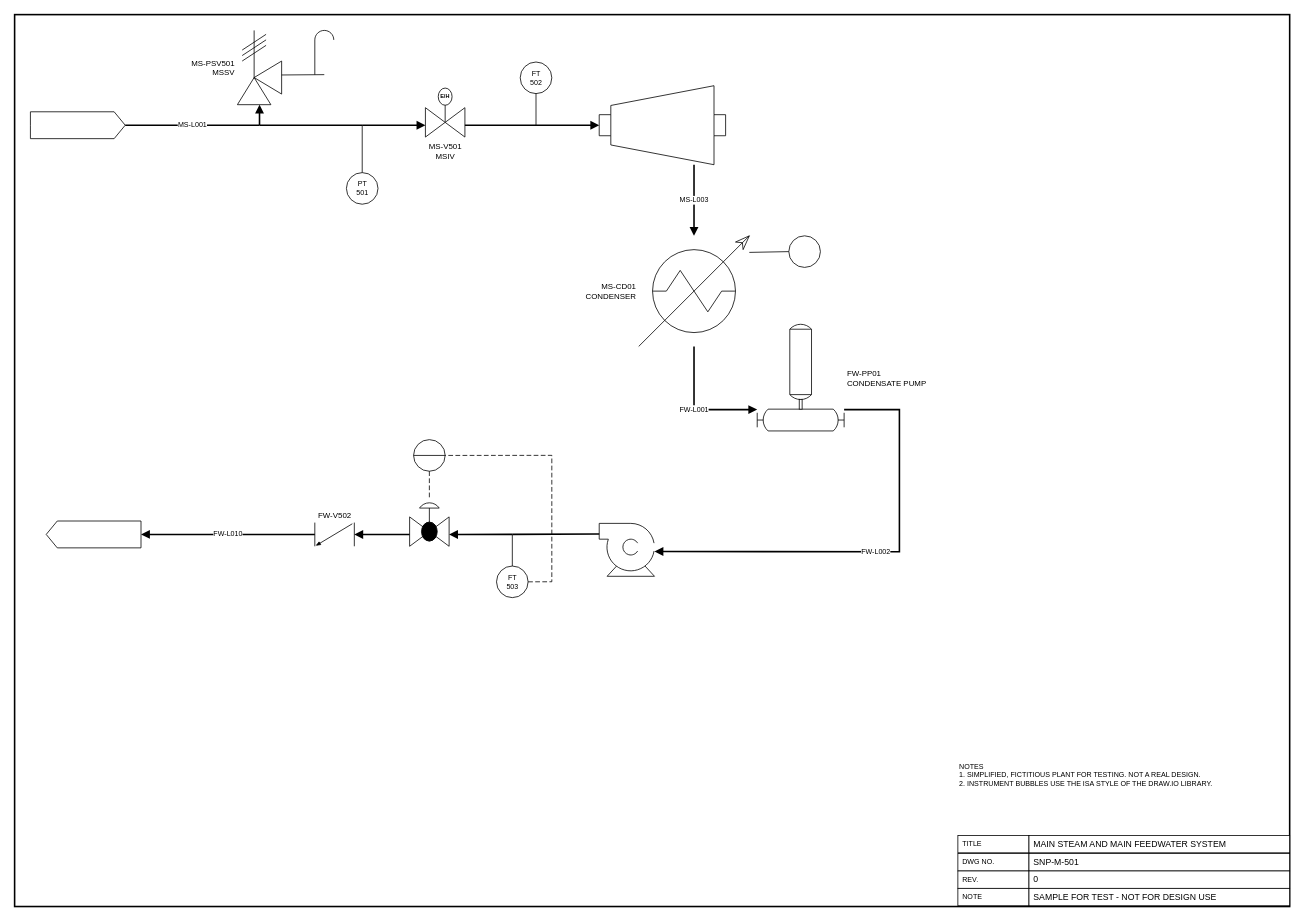
The diagram is 1304 pixels wide and 920 high, and some of its shapes have lost their labels. The centre of each missing label's shape, as x and y in pixels:
FIC 503: [429,455]
FROM SNP-M-101 MS-L001 RC-SG01 STEAM: [77,125]
FW-FV501: [429,521]
FW-PP02 MAIN FEEDWATER PUMP: [626,549]
MS-TB01 MAIN TURBINE: [662,125]
PT 503: [804,251]
TO ATM: [324,52]
TO SNP-M-101 FW-L010 TO RC-SG01: [93,534]
